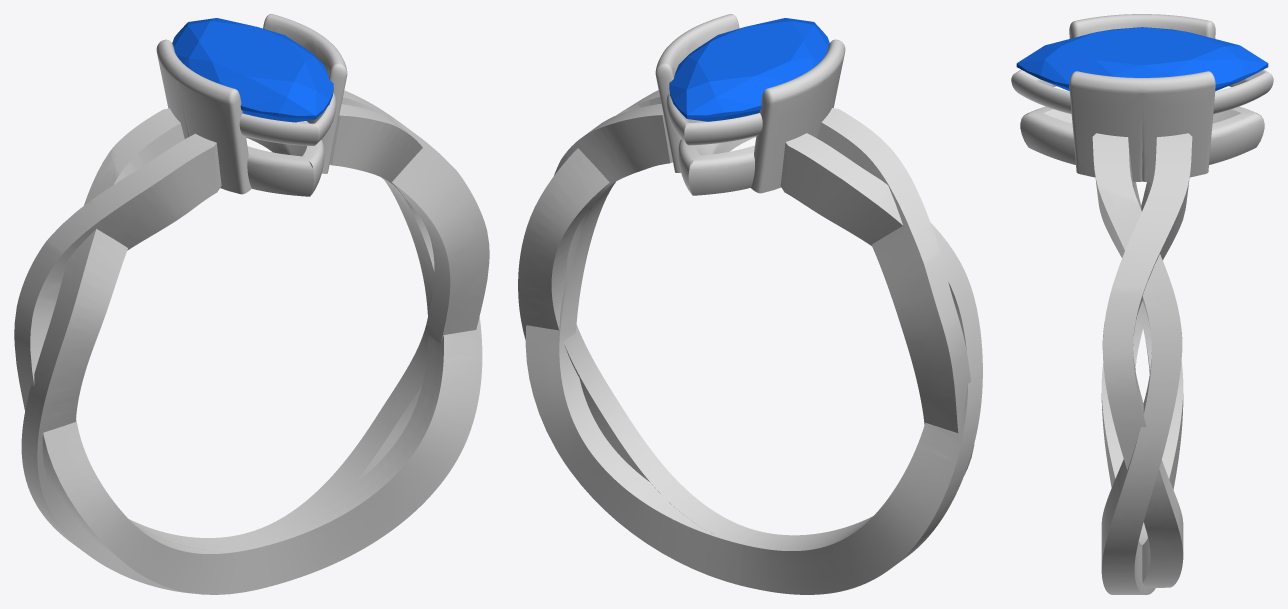
File: bluesapphire-marquise-platinum-halfmoonbezel-twist-nosidestones.glb
3 views of the same model, side by side, from view 1: azimuth 30°, elevation 25°; view 2: azimuth 150°, elevation 25°; view 3: azimuth 270°, elevation 25° (orthographic).
Visible parts, largest first — view 1: metal.003, stone; view 2: metal.003, stone; view 3: metal.003, stone.
Boxes of the visible parts, x1=… form: metal.003: x1=14, y1=14, x2=489, y2=594; stone: x1=172, y1=18, x2=333, y2=122; metal.003: x1=518, y1=14, x2=982, y2=594; stone: x1=669, y1=18, x2=829, y2=121; metal.003: x1=1011, y1=14, x2=1273, y2=594; stone: x1=1016, y1=27, x2=1268, y2=90.
Size of the model in its own units: 19.97 by 22.84 by 10.4.
